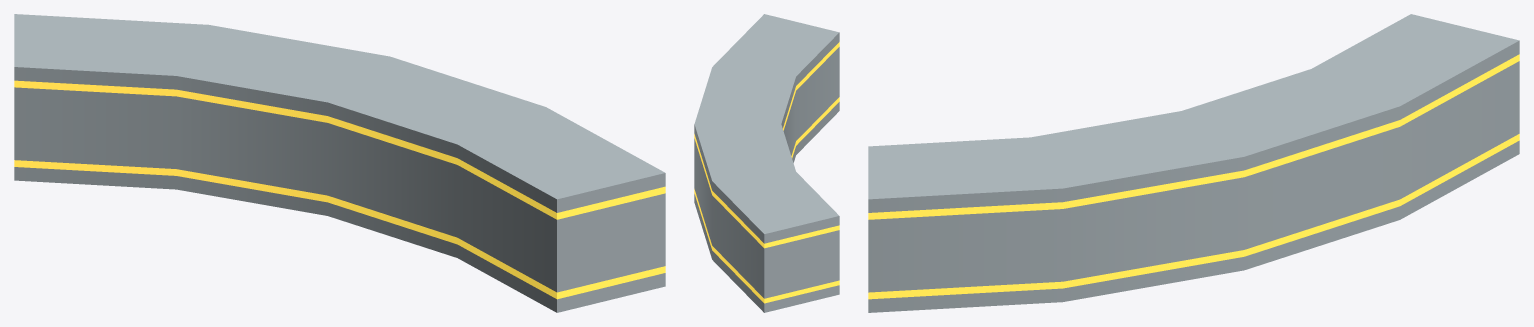
Rendered from SM_60DegreeBendBig_v0.fbx.
3 views of the same model, side by side, from view 1: azimuth 30°, elevation 25°; view 2: azimuth 150°, elevation 25°; view 3: azimuth 270°, elevation 25° (orthographic). The views are drawn at different scales.
Parts seen in each view (by area): view 1: SM_60DegreeBendBig_v0; view 2: SM_60DegreeBendBig_v0; view 3: SM_60DegreeBendBig_v0.
Boxes of the visible parts, x1,y1,x2,y2 form: SM_60DegreeBendBig_v0: (14, 14, 665, 312); SM_60DegreeBendBig_v0: (694, 14, 839, 312); SM_60DegreeBendBig_v0: (868, 14, 1519, 312).
Size of the model in its own units: 3.5 by 1 by 5.2.
